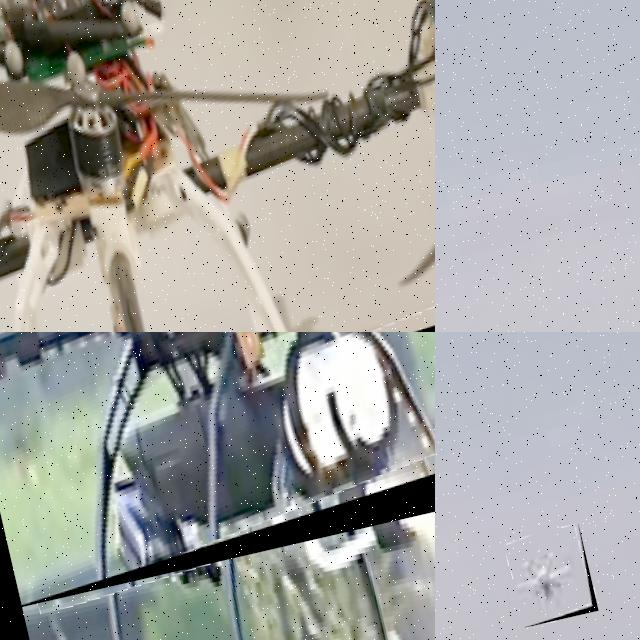0: (504, 524, 598, 628)
drone: (0, 0, 435, 332), (0, 332, 435, 606)
